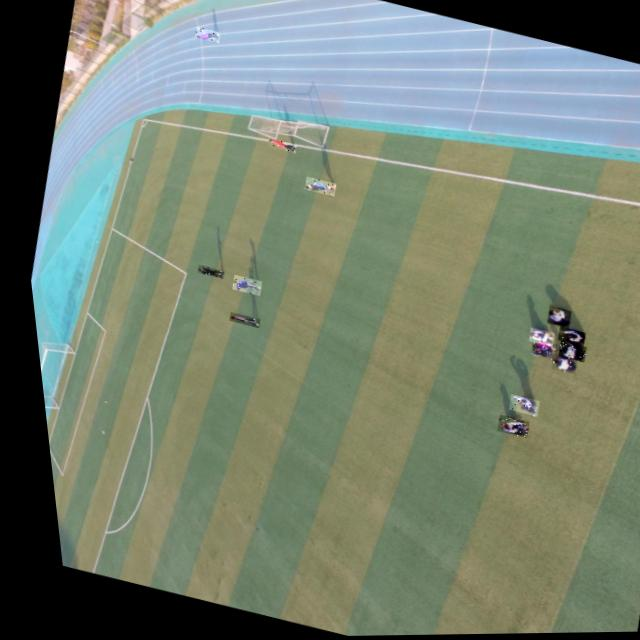Person: (486, 414, 521, 439), (497, 394, 531, 417), (224, 273, 257, 296), (521, 338, 553, 361), (548, 341, 579, 363), (299, 176, 332, 196), (537, 306, 565, 329), (548, 327, 579, 347), (541, 354, 570, 375), (519, 327, 547, 347), (221, 311, 253, 328), (263, 137, 294, 154), (193, 25, 220, 43), (190, 264, 219, 279)
